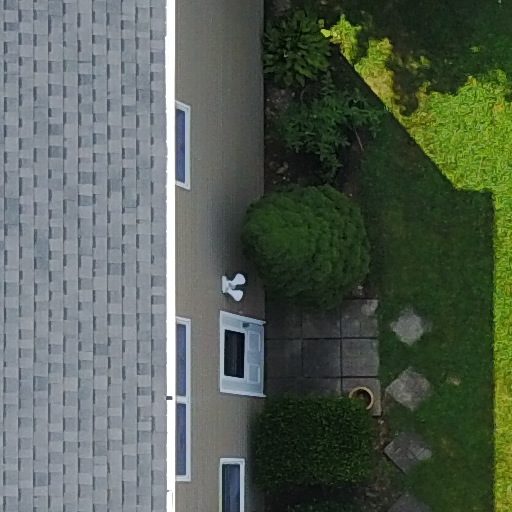container: (350, 384, 376, 412)
